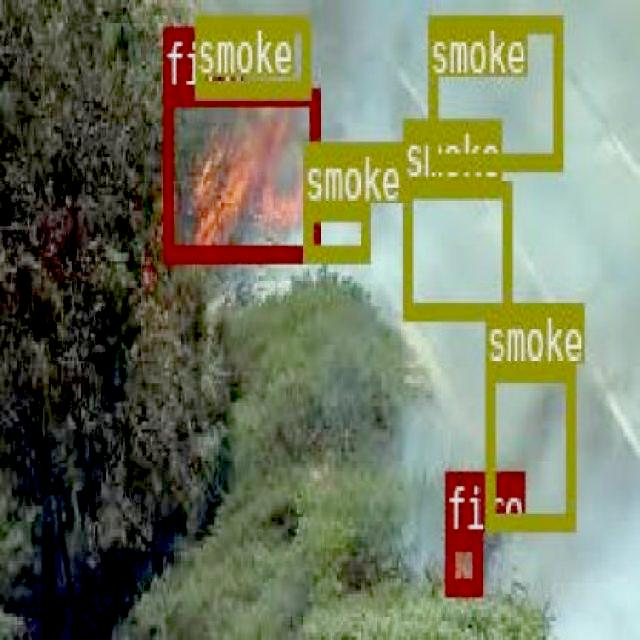fire: (160, 87, 318, 260), (444, 532, 480, 592)
smoke: (426, 12, 560, 166), (401, 178, 510, 317), (484, 362, 573, 527), (194, 15, 310, 94), (302, 202, 368, 258)
